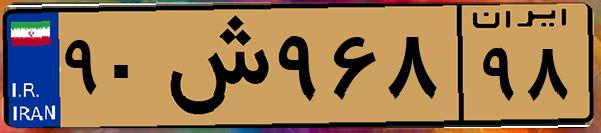0: (110, 28, 158, 98)
6: (330, 28, 385, 110)
8: (385, 28, 445, 110), (525, 38, 570, 115)
9: (270, 28, 330, 110), (57, 26, 110, 100), (475, 38, 525, 113)
ش: (158, 12, 270, 120)
